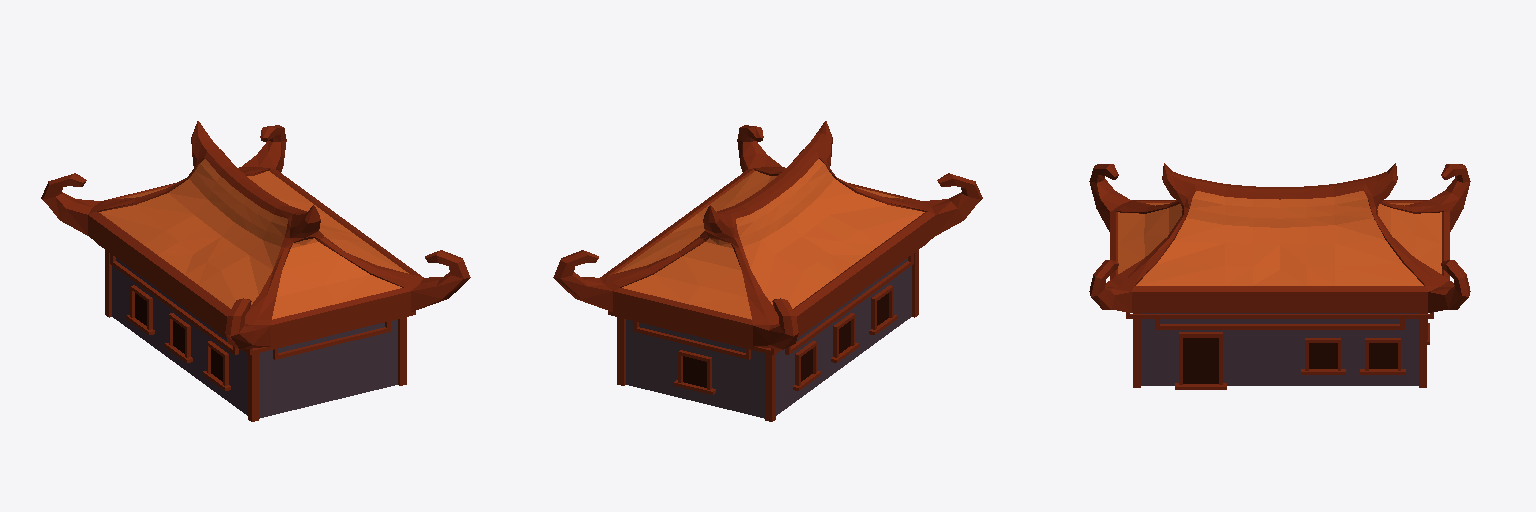
Rendered from House_A.obj.
3 views of the same model, side by side, from view 1: azimuth 30°, elevation 25°; view 2: azimuth 150°, elevation 25°; view 3: azimuth 270°, elevation 25° (orthographic).
Visible parts, largest first — view 1: House_A; view 2: House_A; view 3: House_A.
Part boxes in pixels (bbox=[...]): House_A: bbox=[41, 121, 470, 421]; House_A: bbox=[553, 121, 982, 421]; House_A: bbox=[1089, 163, 1470, 389].
Size of the model in its own units: 18.44 by 13.55 by 24.99.